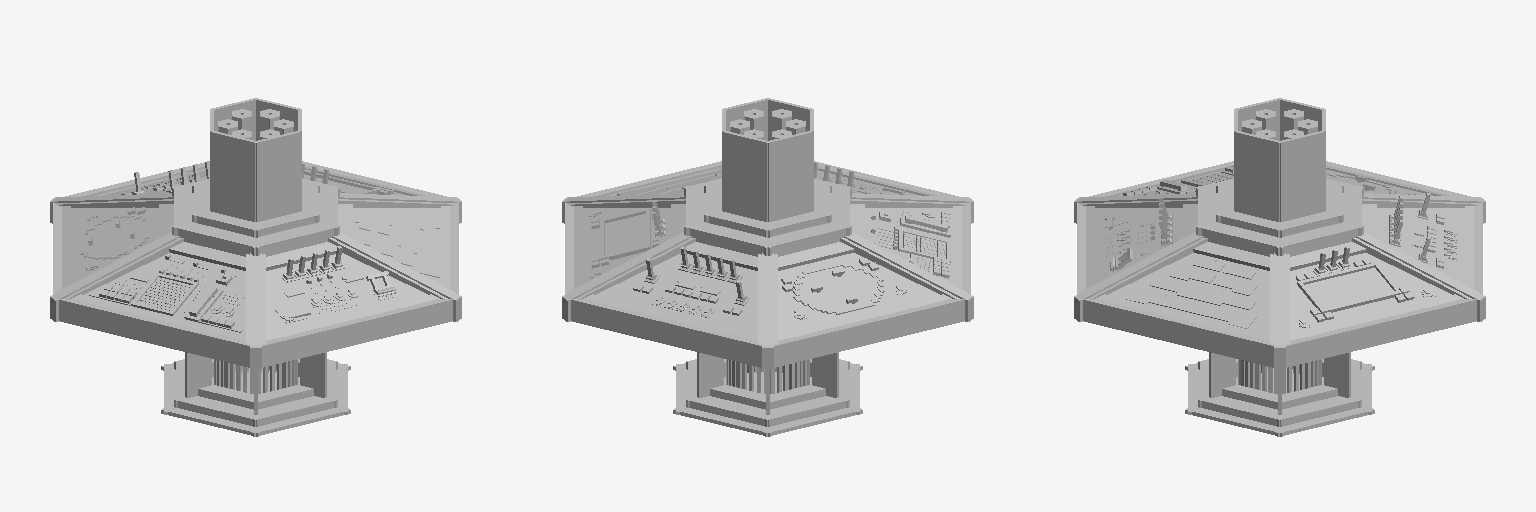
File: tardis_console_unit_imperial.obj
3 views of the same model, side by side, from view 1: azimuth 30°, elevation 25°; view 2: azimuth 150°, elevation 25°; view 3: azimuth 270°, elevation 25° (orthographic).
Parts seen in each view (by area): view 1: desk_border_a_4, desk_border_a_5, rotor_platform_b_4, rotor_platform_b_5, rotor_platform_a_5, rotor_platform_a_4, desk_panel_d_3, platform_b_4, desk_panel_separators_b_4, desk_panel_separators_b_6, desk_panel_separators_b_5, desk_border_b_4 (+28 smaller); view 2: desk_border_a_1, desk_border_a_6, rotor_platform_b_1, rotor_platform_b_6, rotor_platform_a_6, rotor_platform_a_1, desk_panel_a_2, control_monitor_main, platform_b_1, desk_panel_separators_b_6, desk_panel_separators_b_2, desk_panel_separators_b_1 (+28 smaller); view 3: desk_border_a_2, desk_border_a_3, rotor_platform_b_2, rotor_platform_b_3, control_monitor_main, rotor_platform_a_3, rotor_platform_a_2, platform_b_2, desk_panel_separators_b_2, platform_b_3, desk_panel_separators_b_4, desk_panel_separators_b_3 (+28 smaller).
Part boxes in pixels (x1,y1,x2,y2): desk_border_a_4: (255,298,457,367); desk_border_a_5: (59,299,256,367); rotor_platform_b_4: (247,130,319,237); rotor_platform_b_5: (192,130,262,237); rotor_platform_a_5: (172,212,275,256); rotor_platform_a_4: (252,212,339,256); desk_panel_d_3: (266,272,398,313); platform_b_4: (244,393,337,426); desk_panel_separators_b_4: (332,233,459,306); desk_panel_separators_b_6: (52,233,179,303); desk_panel_separators_b_5: (250,253,261,346); desk_border_b_4: (266,294,439,340); desk_border_a_1: (566,298,768,367); desk_border_a_6: (774,299,964,367); rotor_platform_b_1: (704,130,776,237); rotor_platform_b_6: (759,130,831,237); rotor_platform_a_6: (746,212,851,256); rotor_platform_a_1: (684,212,788,256); desk_panel_a_2: (604,281,757,327); control_monitor_main: (605,214,647,259); platform_b_1: (686,399,783,426); desk_panel_separators_b_6: (844,233,971,306); desk_panel_separators_b_2: (564,233,691,299); desk_panel_separators_b_1: (762,253,773,346); desk_border_a_2: (1279,298,1481,367); desk_border_a_3: (1083,299,1280,367); rotor_platform_b_2: (1271,130,1343,237); rotor_platform_b_3: (1216,130,1288,237); control_monitor_main: (1298,268,1394,312); rotor_platform_a_3: (1196,212,1300,256); rotor_platform_a_2: (1261,212,1363,256); platform_b_2: (1267,399,1361,426); desk_panel_separators_b_2: (1356,233,1483,307); platform_b_3: (1198,399,1287,426); desk_panel_separators_b_4: (1076,233,1203,299); desk_panel_separators_b_3: (1274,253,1285,346).
Size of the model in its own units: 7.36 by 4.69 by 6.47.